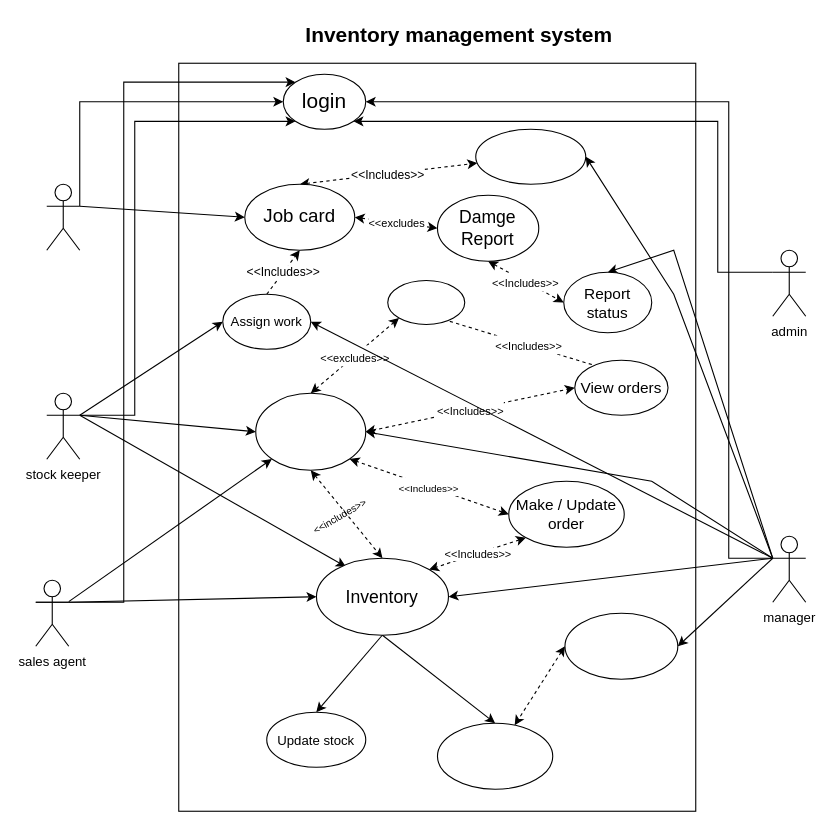
This 834x831 diagram has some shape labels left out. Each missing label, with the centre of its shape:
Generate reports: [621,645]
order status: [426,301]
Orders: [310,431]
View: [494,755]
work status: [530,156]
worker: [63,216]
